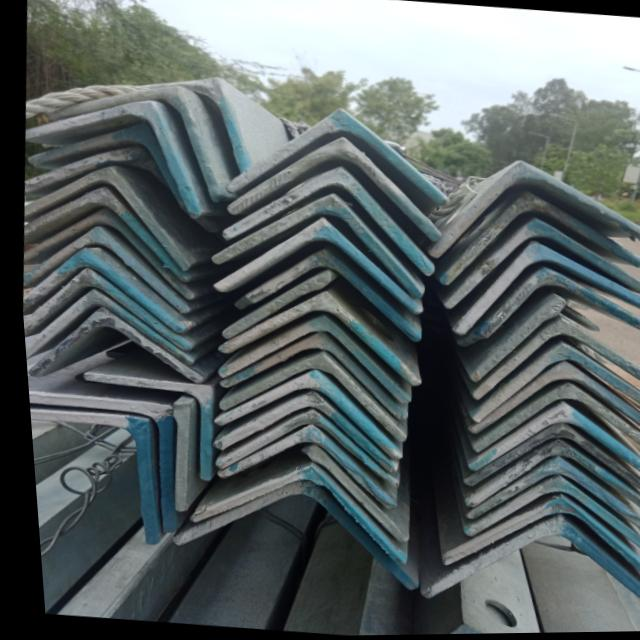metal-angles: (164, 480, 410, 592), (216, 169, 427, 277), (208, 193, 417, 299), (223, 136, 438, 239), (182, 465, 396, 565), (42, 87, 223, 203), (222, 110, 444, 204), (423, 162, 640, 258), (23, 101, 200, 218), (411, 518, 640, 607), (23, 393, 168, 533), (209, 218, 414, 315), (212, 291, 412, 387), (436, 194, 640, 286), (447, 242, 640, 336), (439, 221, 640, 309), (22, 166, 188, 271), (209, 353, 399, 444), (24, 409, 151, 545), (206, 371, 395, 462), (433, 499, 640, 582), (213, 332, 400, 422), (212, 316, 402, 404), (239, 250, 415, 342), (19, 206, 190, 300), (209, 425, 389, 511), (21, 187, 183, 281), (208, 409, 391, 492), (19, 226, 185, 314), (208, 392, 388, 473), (456, 457, 640, 536), (466, 319, 640, 401), (19, 268, 188, 352), (456, 476, 640, 552), (18, 248, 180, 334), (466, 345, 640, 424), (454, 440, 640, 513), (455, 424, 640, 497), (80, 373, 206, 480), (458, 404, 640, 478), (460, 362, 640, 435), (23, 308, 199, 382), (20, 288, 188, 365), (466, 384, 640, 454), (471, 269, 640, 337)
